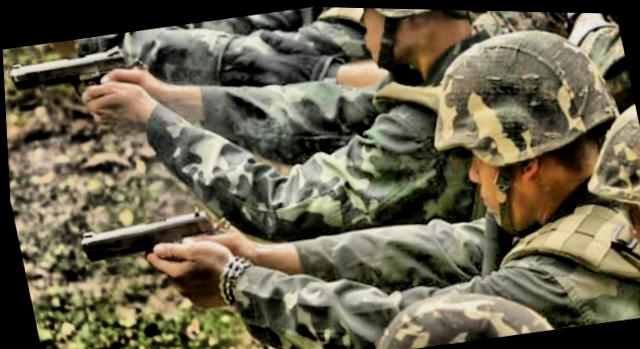pistol: (68, 200, 233, 303), (1, 31, 153, 114)
